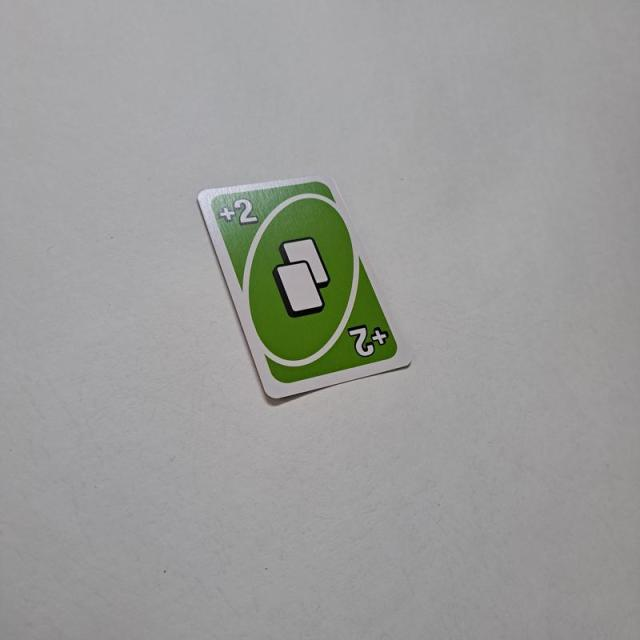Draw_Two: (214, 192, 262, 234)
Green_Card: (207, 176, 400, 386)
